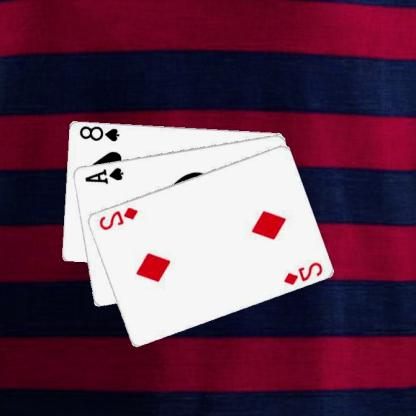2D: (282, 259, 326, 286), (98, 204, 140, 231)
8S: (78, 124, 122, 142)
AS: (84, 165, 126, 185)
